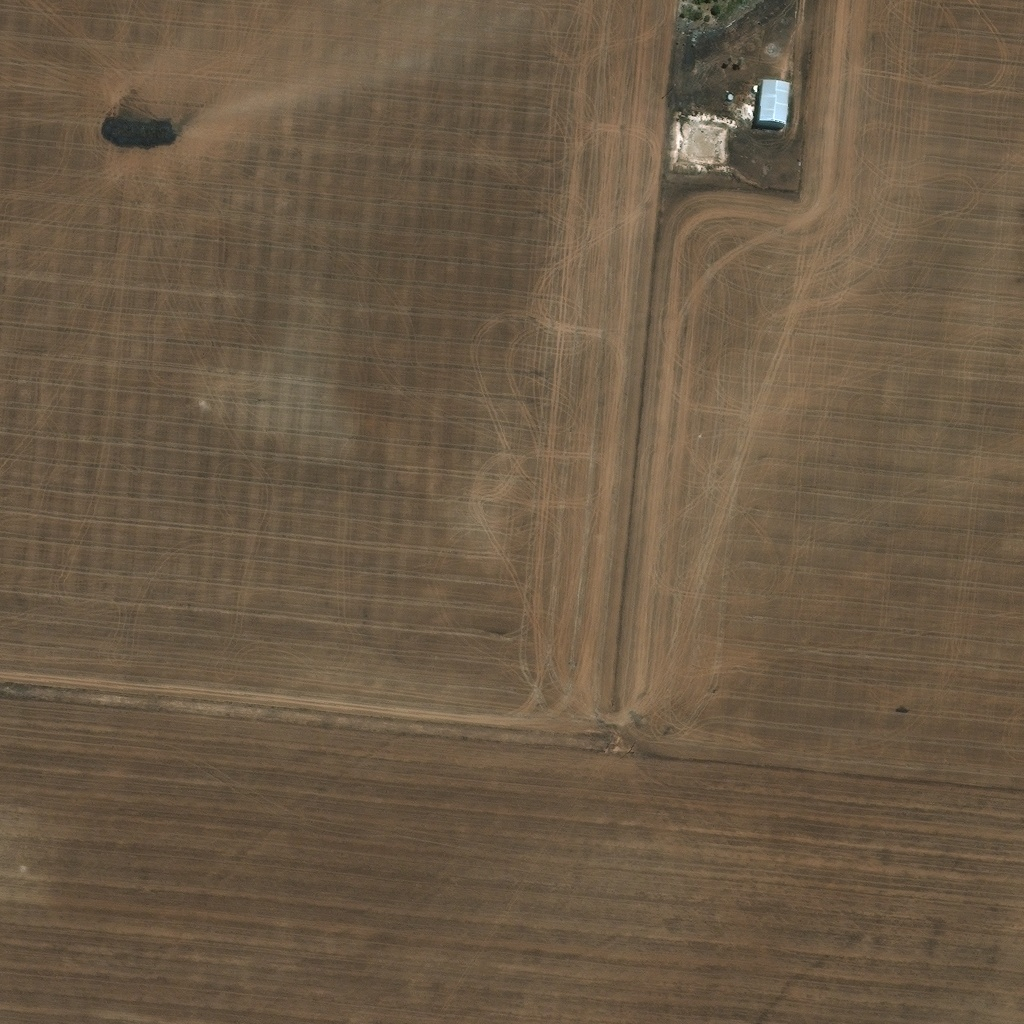0 no-damage: (757, 81, 789, 125), (753, 81, 760, 93)
